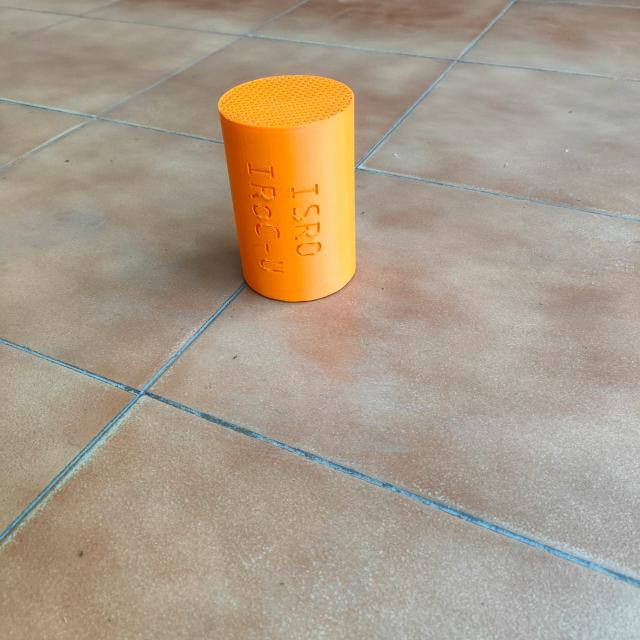Cylinder: (217, 73, 357, 303)
